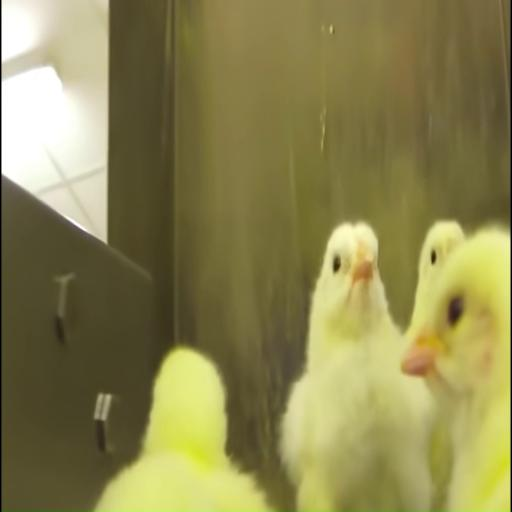chick: (281, 223, 431, 510), (403, 229, 510, 511), (96, 347, 268, 511), (406, 221, 464, 338), (407, 221, 464, 337)
